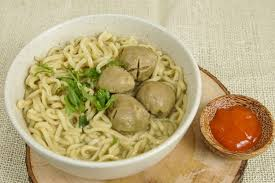bakso: (75, 32, 183, 137)
